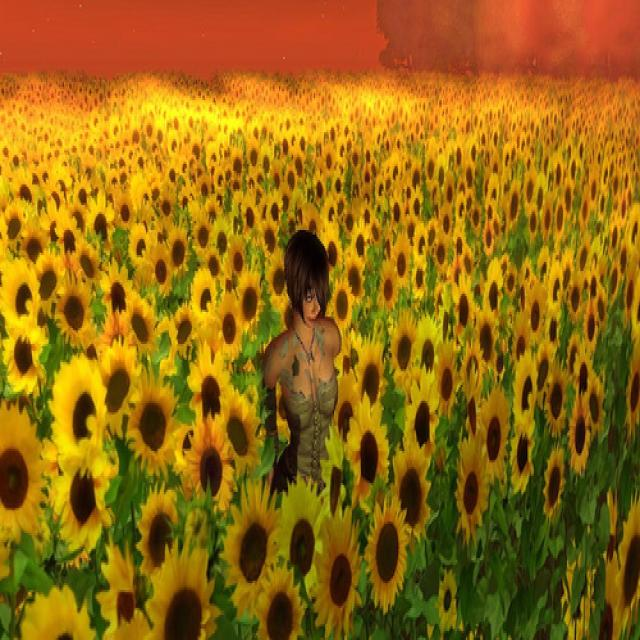sunflower: (225, 462, 283, 624), (0, 402, 58, 557), (48, 340, 109, 472), (50, 459, 111, 575), (123, 368, 189, 475), (309, 504, 363, 634), (140, 544, 218, 634), (341, 386, 398, 498), (364, 490, 414, 615), (214, 378, 266, 474), (400, 366, 446, 461), (613, 494, 640, 640), (0, 250, 46, 332), (1, 323, 55, 392), (455, 433, 488, 542), (94, 252, 136, 334), (54, 273, 96, 353), (511, 354, 541, 434), (566, 393, 592, 477), (543, 438, 567, 528), (358, 342, 388, 414), (162, 306, 205, 356), (215, 288, 246, 357), (0, 195, 35, 256), (232, 272, 266, 334), (83, 189, 117, 251), (450, 276, 478, 350), (480, 256, 507, 329), (522, 278, 548, 353), (261, 254, 293, 311), (52, 214, 86, 267), (187, 260, 214, 324), (144, 244, 175, 296), (376, 259, 402, 320), (329, 277, 357, 329), (192, 213, 218, 265), (319, 222, 344, 275), (580, 305, 605, 355), (411, 222, 434, 270), (238, 194, 261, 242), (507, 179, 525, 231), (264, 192, 285, 234), (155, 187, 179, 223), (553, 197, 568, 247), (229, 148, 246, 185), (422, 149, 439, 186), (452, 229, 468, 268), (442, 174, 457, 215), (410, 186, 425, 224), (467, 136, 483, 170), (140, 115, 157, 145), (293, 125, 309, 155), (87, 107, 106, 132), (359, 202, 374, 231)
